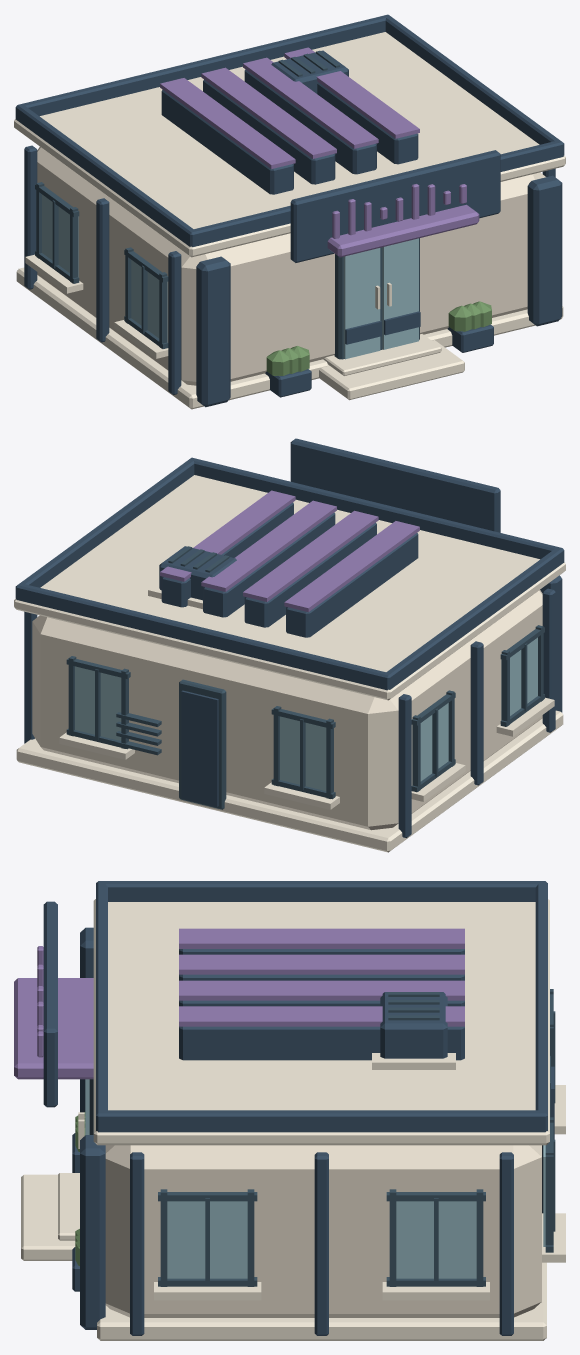
File: media-l01.glb
3 renders of one model, top to bottom at view 1: azimuth 30°, elevation 25°; view 2: azimuth 150°, elevation 25°; view 3: azimuth 270°, elevation 25°, orthographic. The views are drawn at different scales.
Parts seen in each view (by area): view 1: media_L01; view 2: media_L01; view 3: media_L01.
Boxes of the visible parts, bbox=[...] form: media_L01: bbox=[14, 14, 565, 409]; media_L01: bbox=[14, 438, 565, 852]; media_L01: bbox=[14, 881, 565, 1340].
Size of the model in its own units: 5.77 by 2.81 by 5.39.
